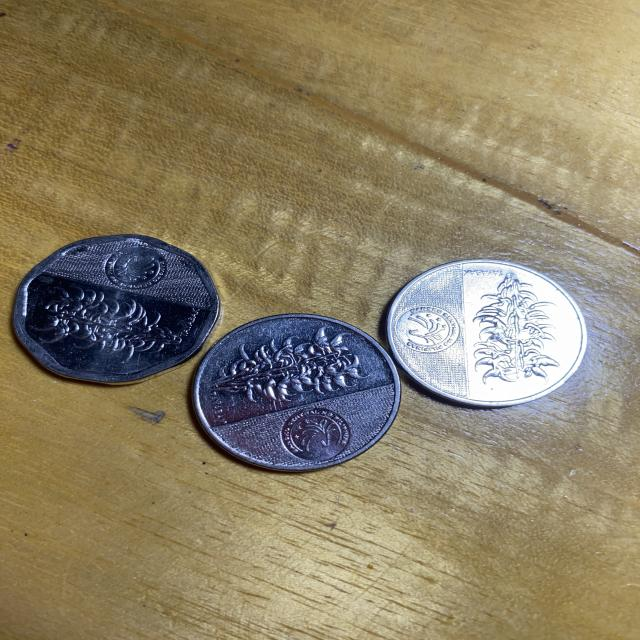5_New_Back: (199, 317, 373, 412)
